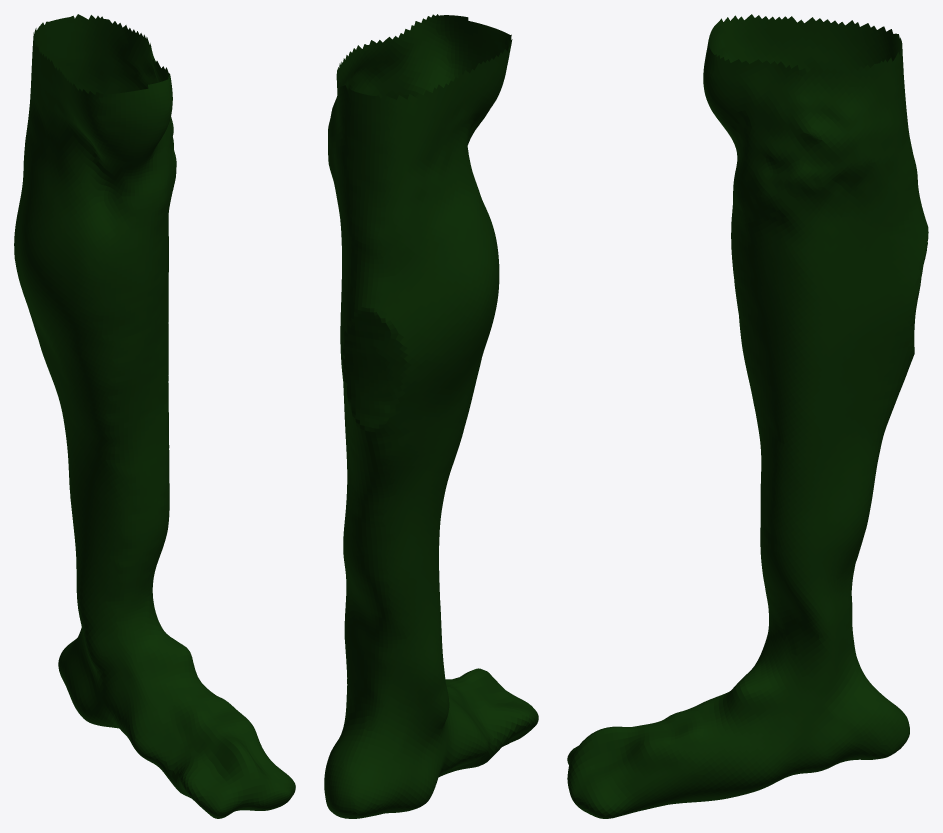
The model's file is leglowerB.obj.
The picture shows the model from 3 angles, left to right: view 1: azimuth 30°, elevation 25°; view 2: azimuth 150°, elevation 25°; view 3: azimuth 270°, elevation 25°; orthographic projection. The views are drawn at different scales.
Visible parts, largest first — view 1: alien_12:alien; view 2: alien_12:alien; view 3: alien_12:alien.
Boxes of the visible parts, left/top/right/bottom form: alien_12:alien: left=14, top=14, right=295, bottom=818; alien_12:alien: left=324, top=14, right=538, bottom=818; alien_12:alien: left=567, top=14, right=928, bottom=818.
Bounding box in the file's own units: 0.6114 × 2.51 × 1.11.
